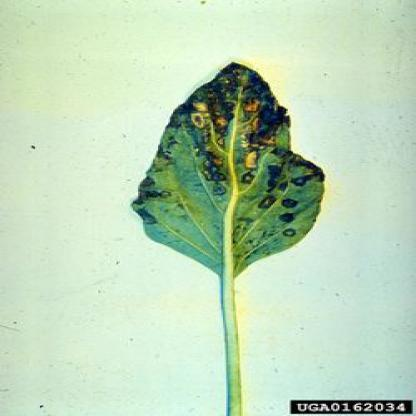Tomato leaf late blight: (130, 54, 338, 284)
